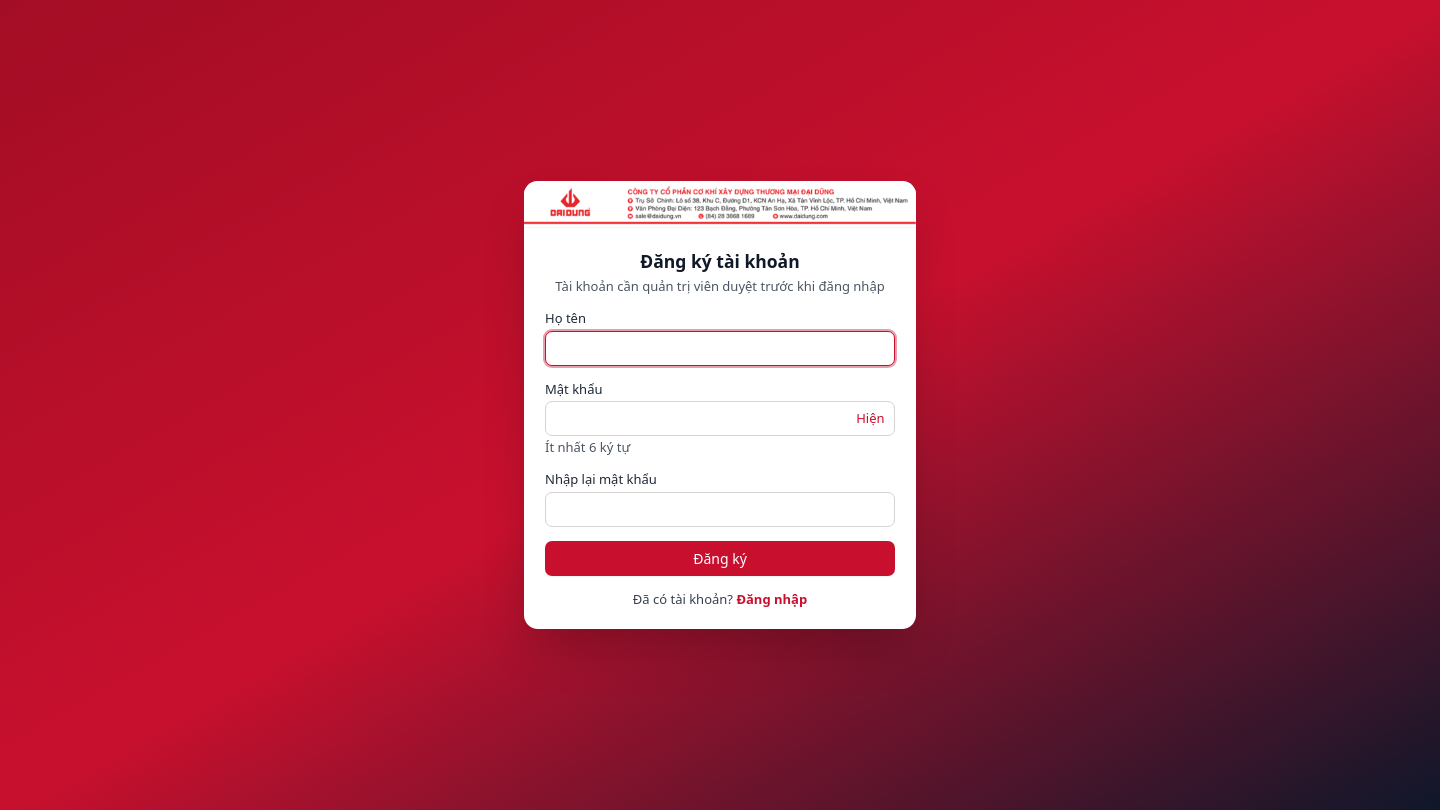
Scenario: RegisterPage (D-015) › lỗi từ máy chủ hiện rõ, vẫn ở form
Type "An" into the field with test id "register-fullname" at {"x": 720, "y": 348}, box x1=545 y1=331 x2=895 y2=366
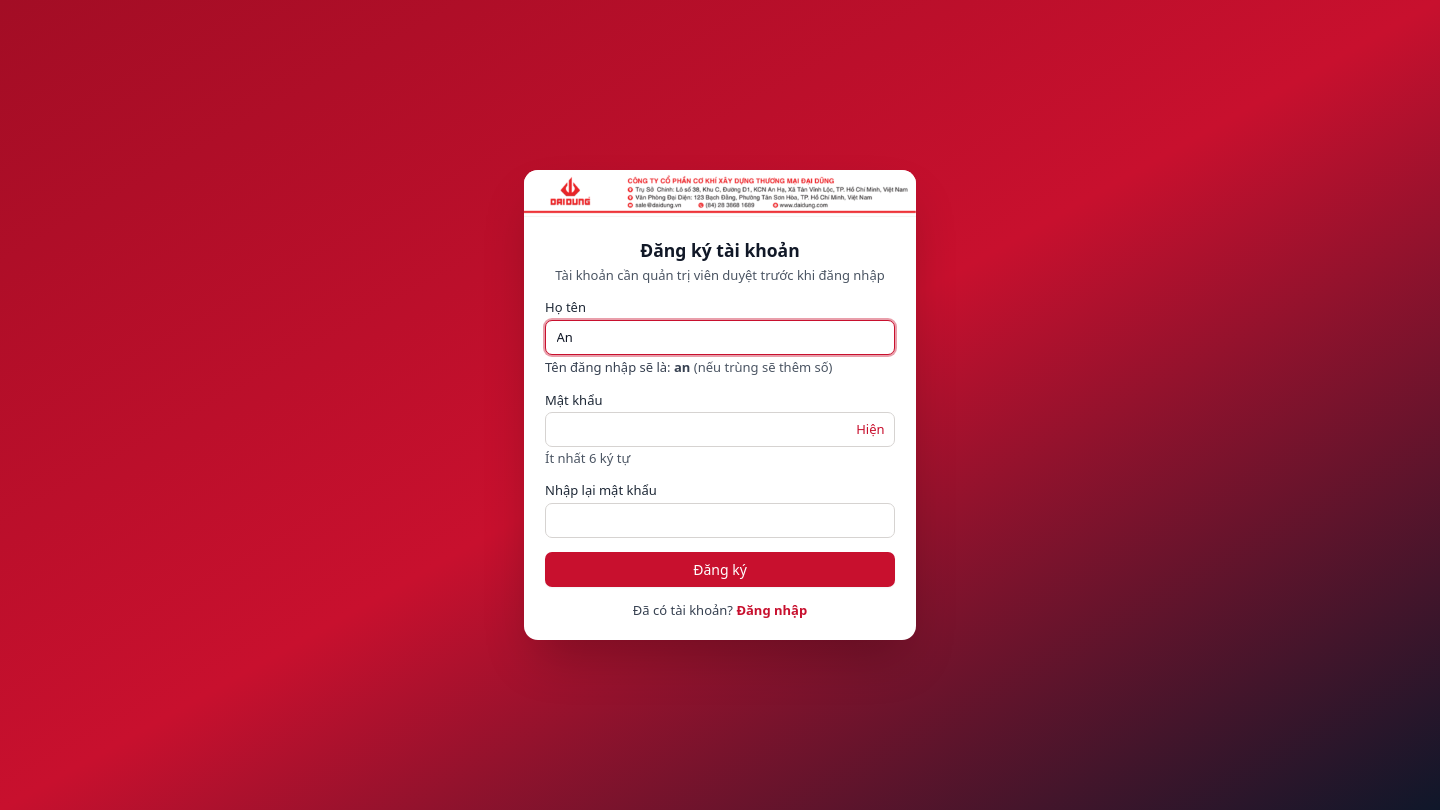
Type "matkhau123" into the password field with test id "register-password" at {"x": 720, "y": 430}, box x1=545 y1=412 x2=895 y2=447
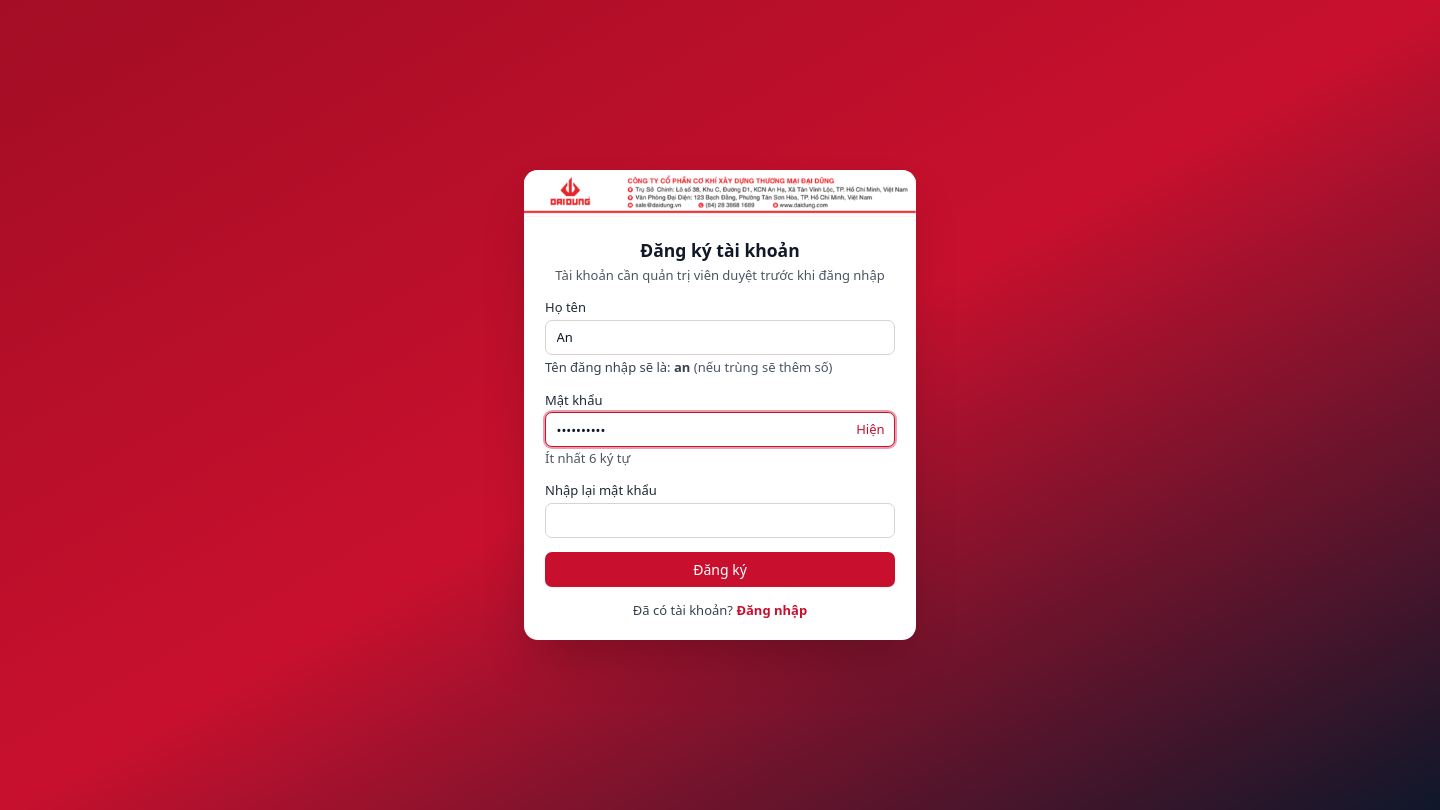
Type "matkhau123" into the password field with test id "register-confirm" at {"x": 720, "y": 520}, box x1=545 y1=503 x2=895 y2=538
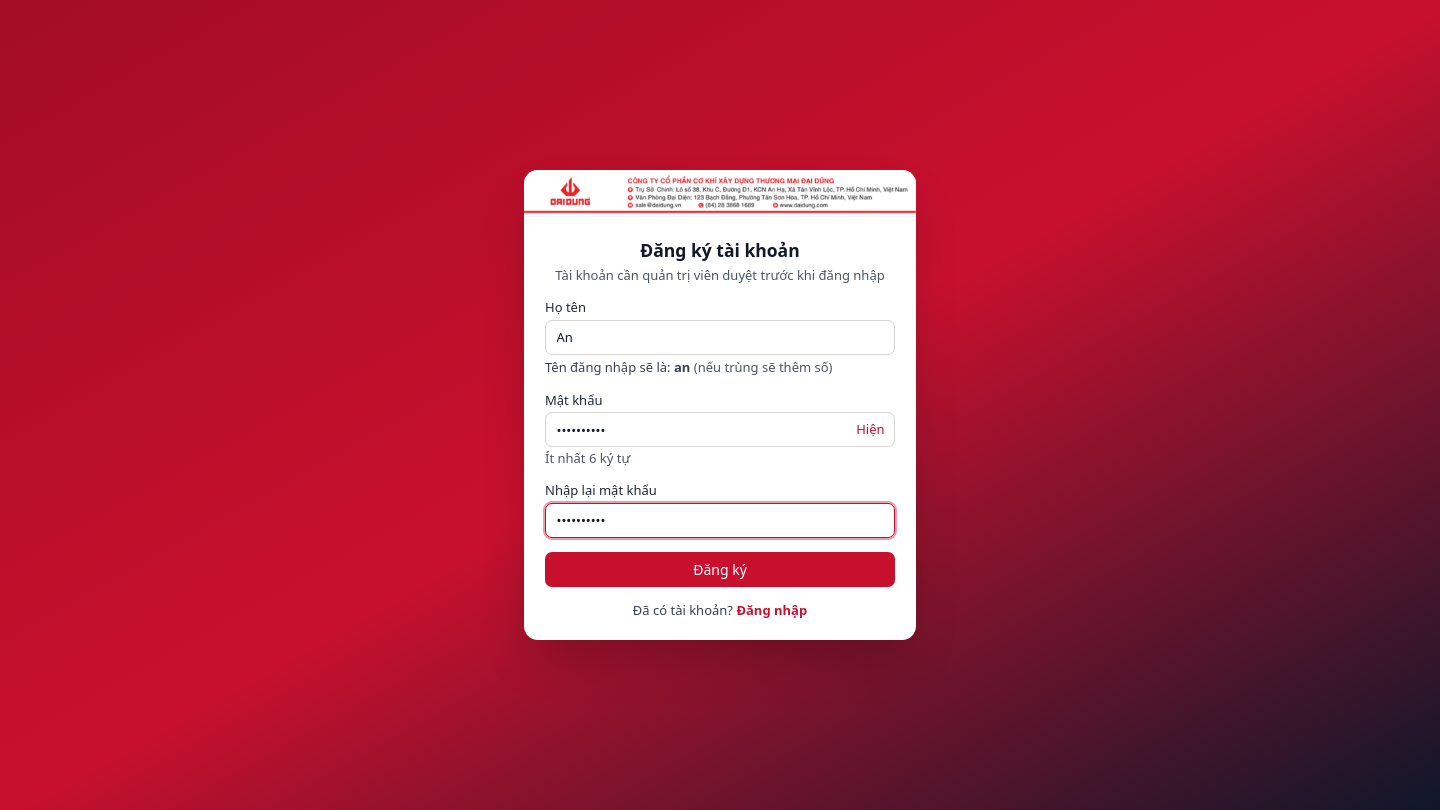
Click the button with test id "register-submit" at {"x": 720, "y": 569}, box x1=545 y1=552 x2=895 y2=587
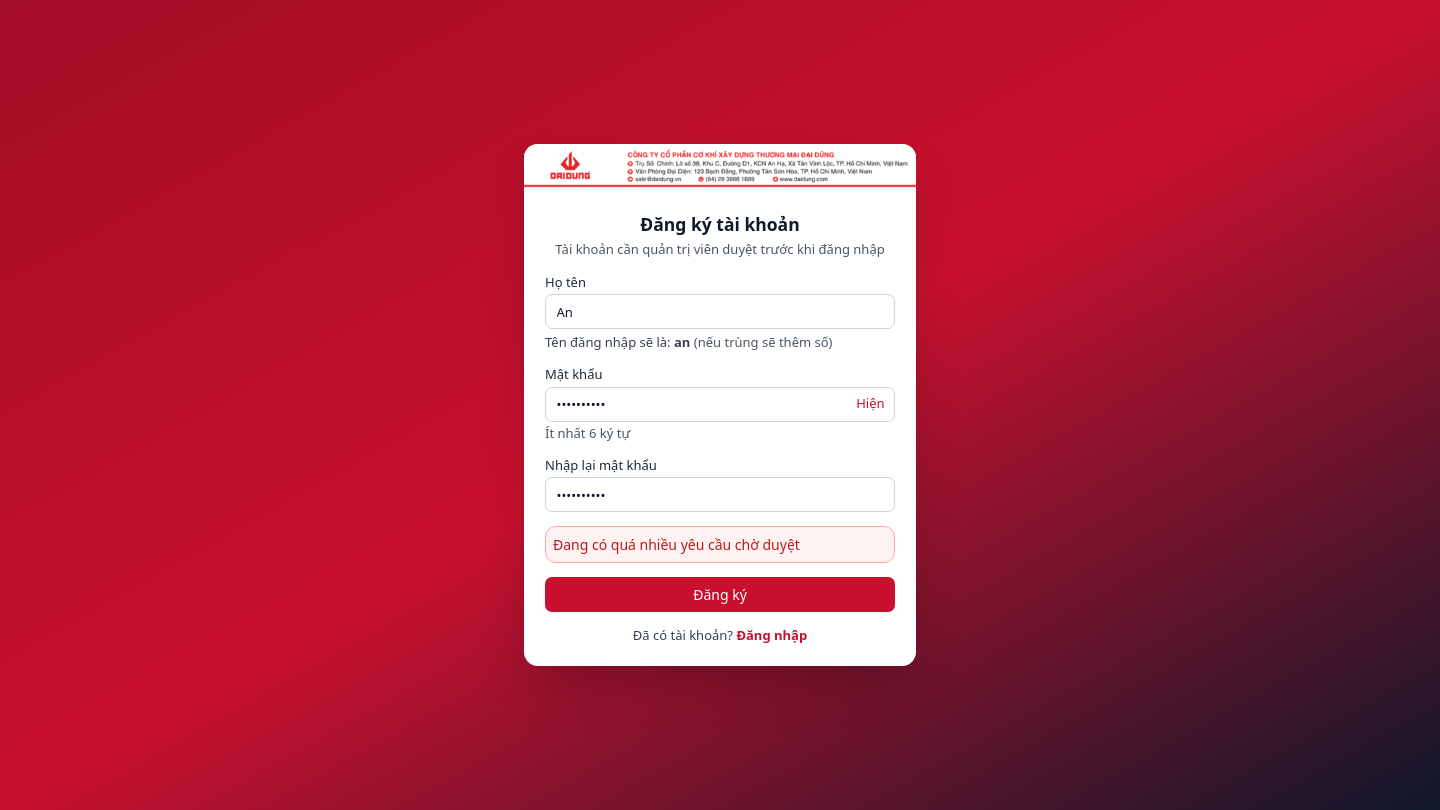
Expected: the message with test id "register-error" reads "Đang có quá nhiều yêu cầu chờ duyệt", x1=553 y1=535 x2=800 y2=554
